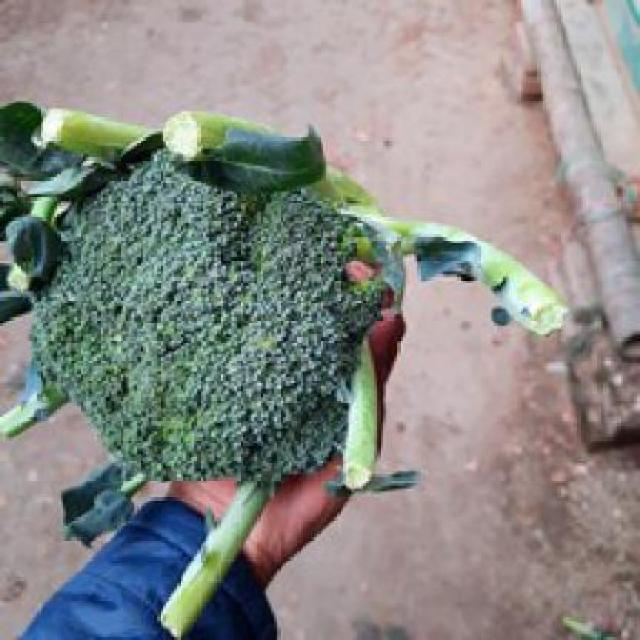broccoli: (12, 112, 390, 494)
